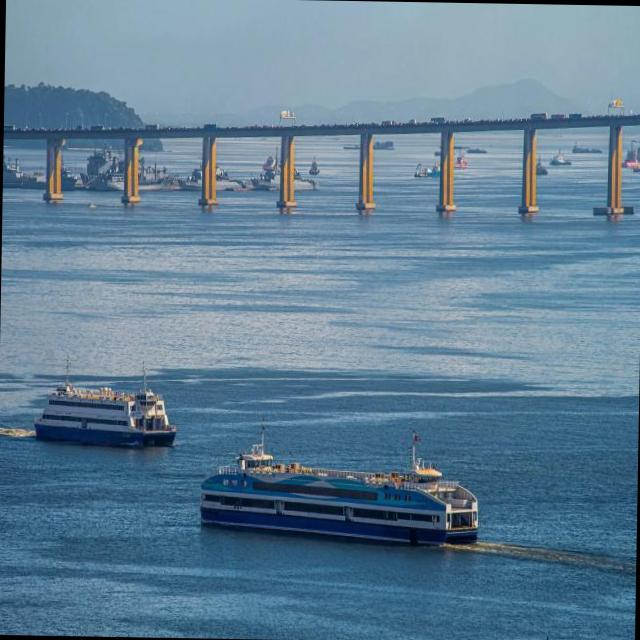Passenger: (201, 437, 477, 545), (35, 374, 175, 447)
